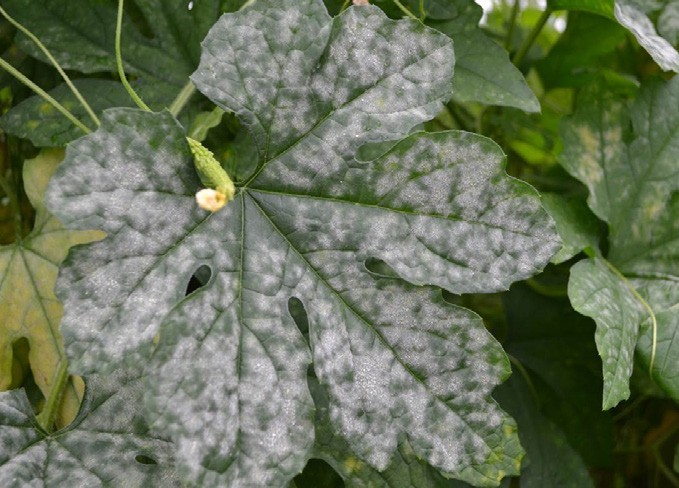BitterGround_PowderyMildew: (57, 24, 532, 458)
